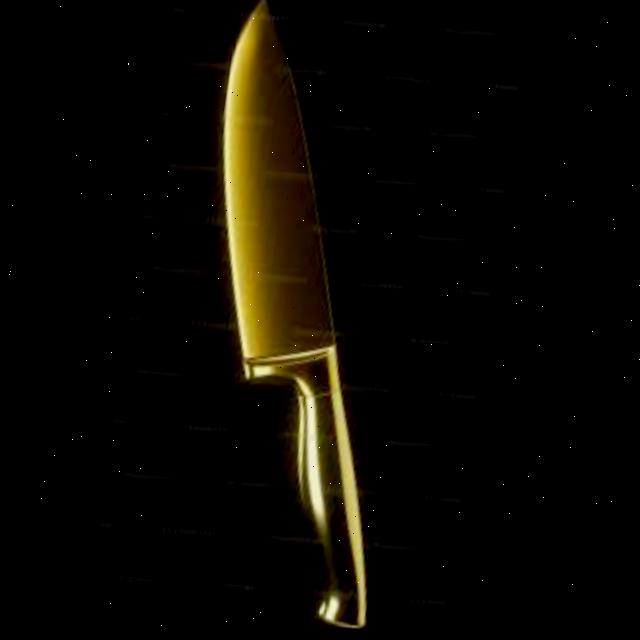Knife: (152, 0, 453, 635)
